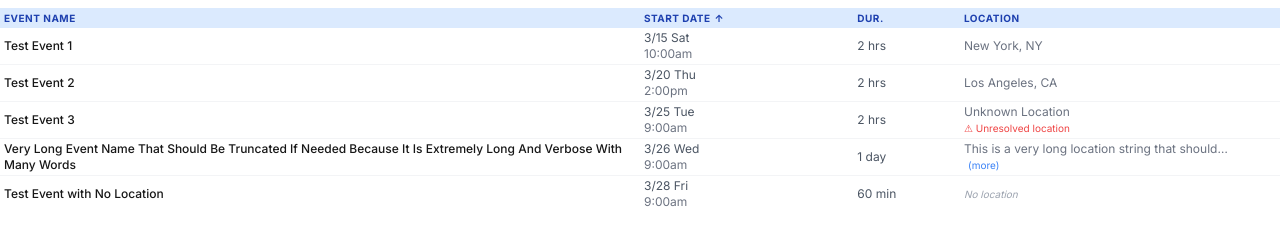
it: EventList › sorts events by name when name header is clicked
This screenshot has width=1280, height=226.
Click on the name column header
Click the button "Event Name" at point(40, 18), box [0,8,640,28]
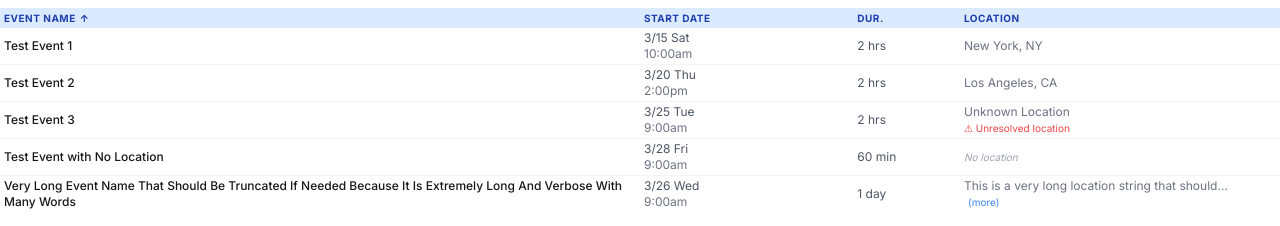
Check: the row "Test Event 1 3/15 Sat 10:00am 2 hrs New York, NY" is shown, box [0,28,1279,64]
Check: the row "Test Event 2 3/20 Thu 2:00pm 2 hrs Los Angeles, CA" is shown, box [0,64,1279,102]
Click again to sort in descending order
Click the button "Event Name↑" at point(40, 18), box [0,8,640,28]
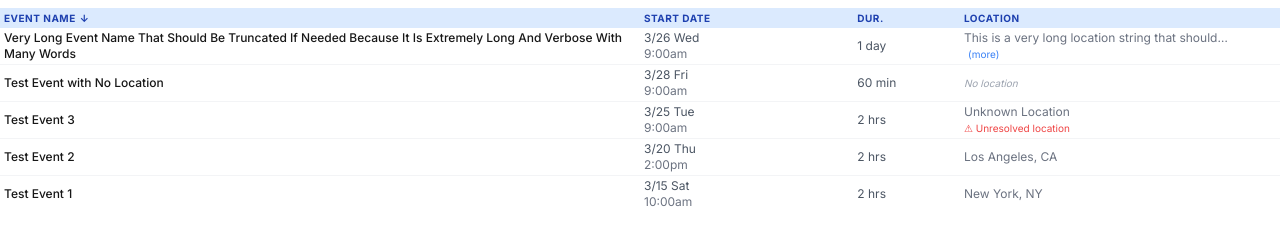
Check: the row that starts with "Test Event 3" is shown, box [4,112,75,127]
Check: the 2nd row shows "Very Long Event Name", box [4,30,622,61]
Check: the row that starts with "Test Event with No Location" is shown, box [4,75,164,90]
